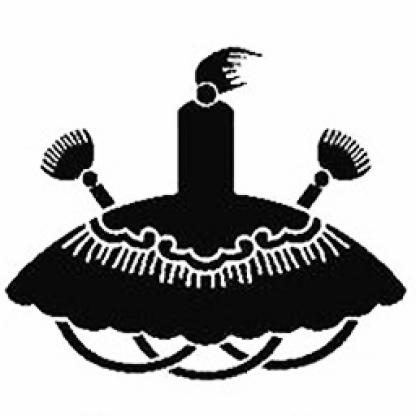kamon: (2, 44, 406, 380)
